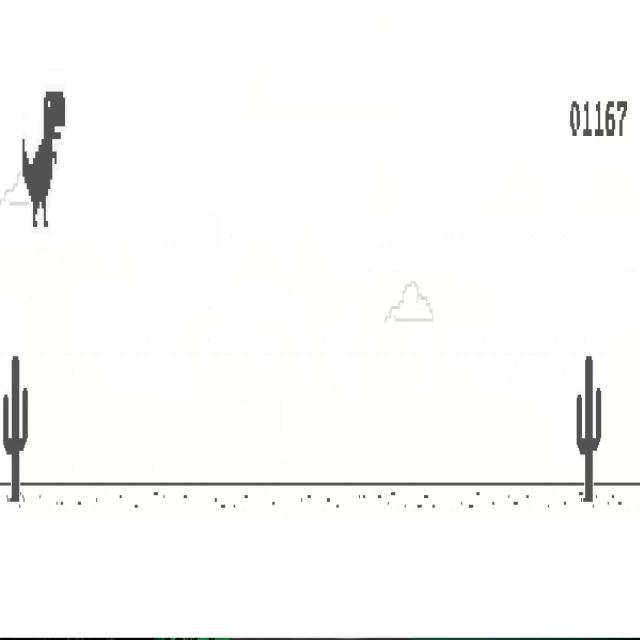cacto: (3, 355, 29, 503), (576, 355, 602, 503)
dino: (22, 90, 66, 230)
